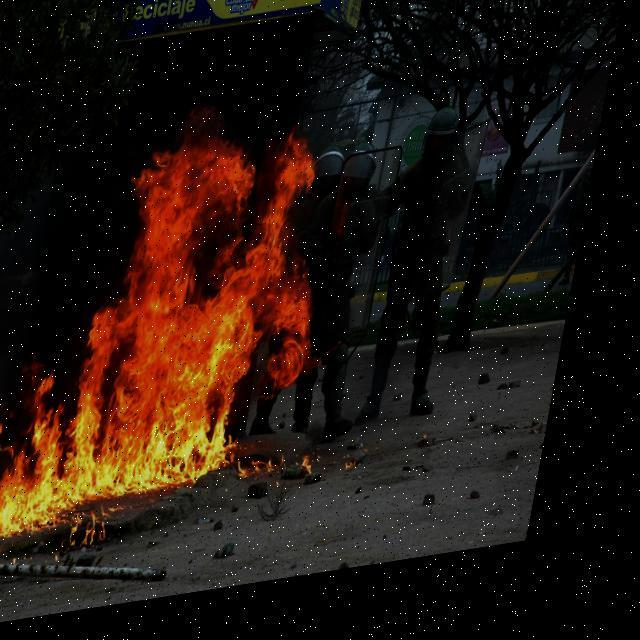Fire: (0, 96, 372, 569)
